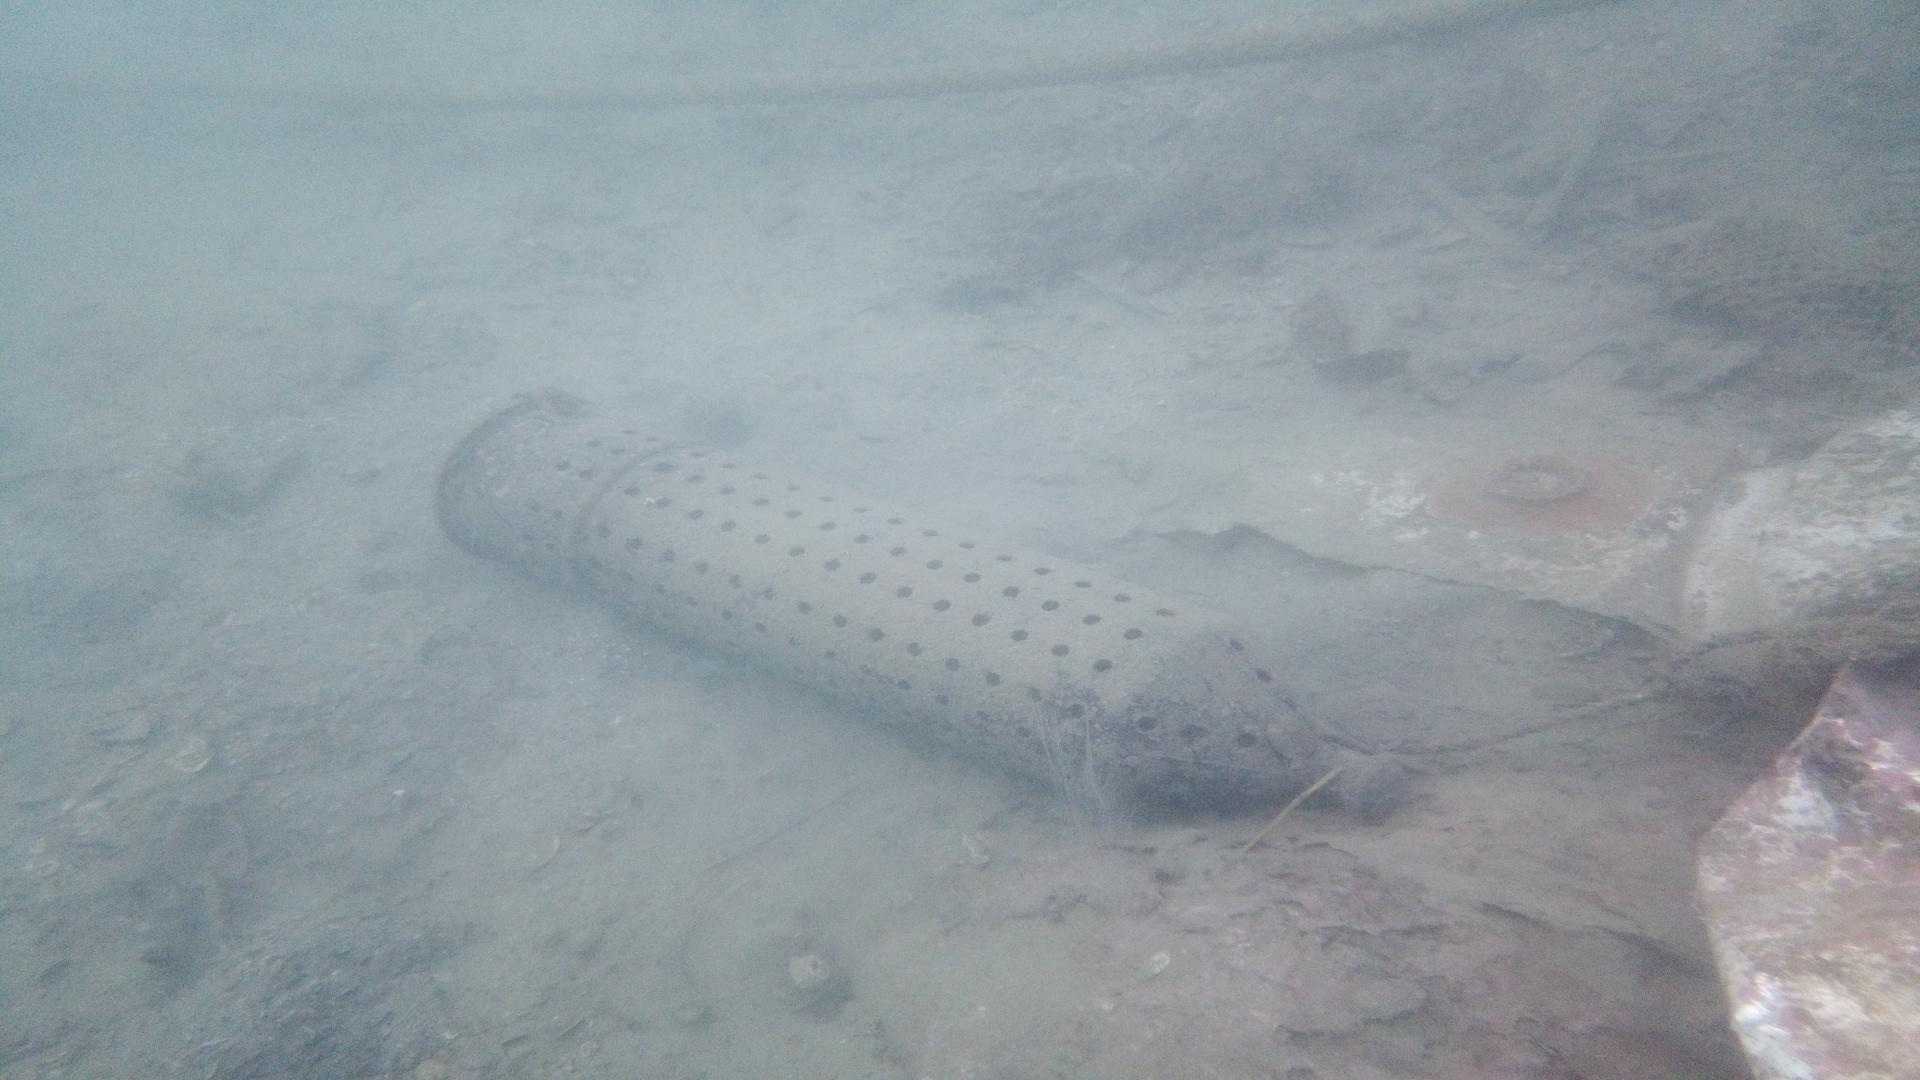eel fish trap: (425, 382, 1407, 831)
rope: (388, 0, 1406, 113)
